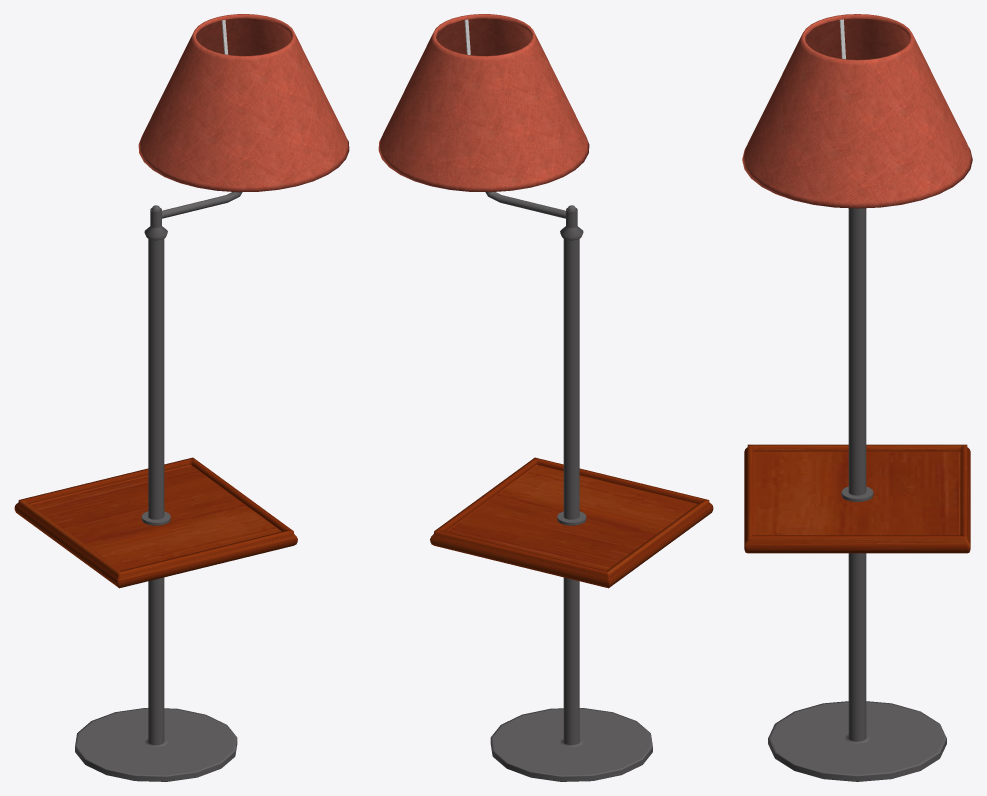
The model's file is fit-light-floor.glb.
3 renders of one model, left to right at view 1: azimuth 30°, elevation 25°; view 2: azimuth 150°, elevation 25°; view 3: azimuth 270°, elevation 25°, orthographic. The views are drawn at different scales.
Bounding box in the file's own units: 58.29 × 143 × 39.64.
Materials: 5 (2 with a texture image).
